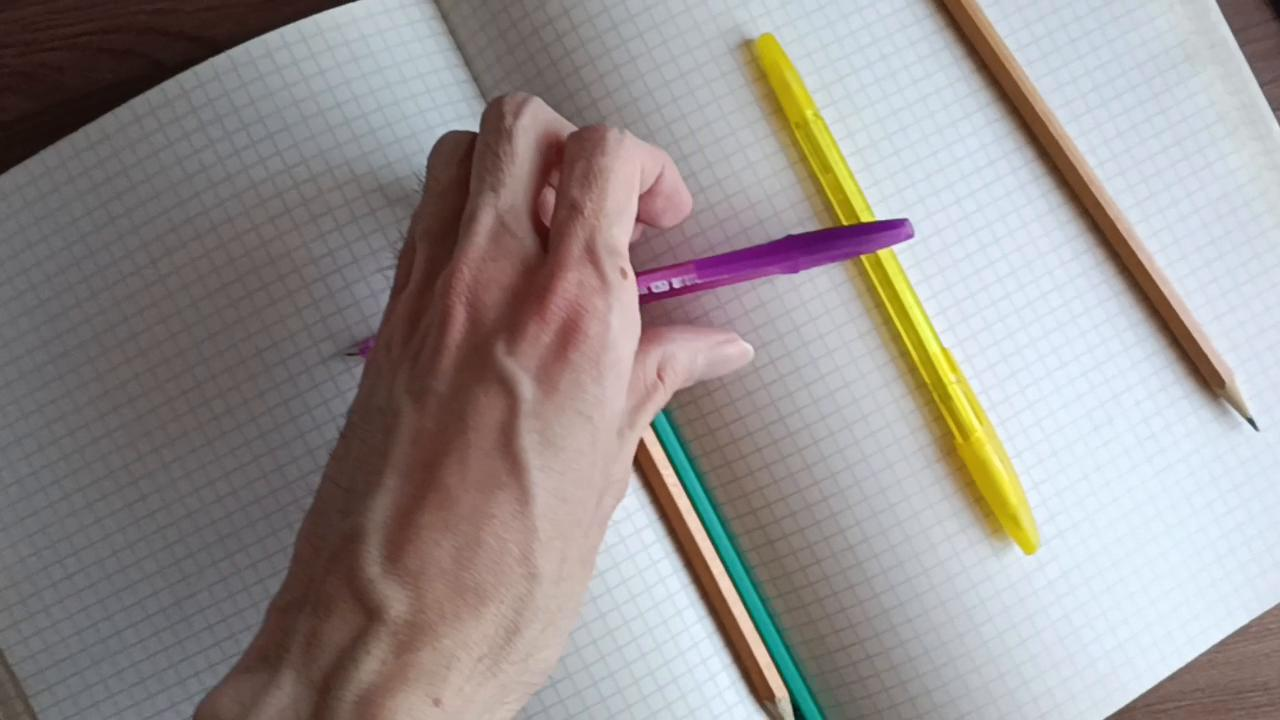pen: (741, 23, 1052, 560), (625, 203, 944, 323)
pencil: (933, 0, 1274, 433), (656, 407, 827, 720), (616, 423, 794, 720)
